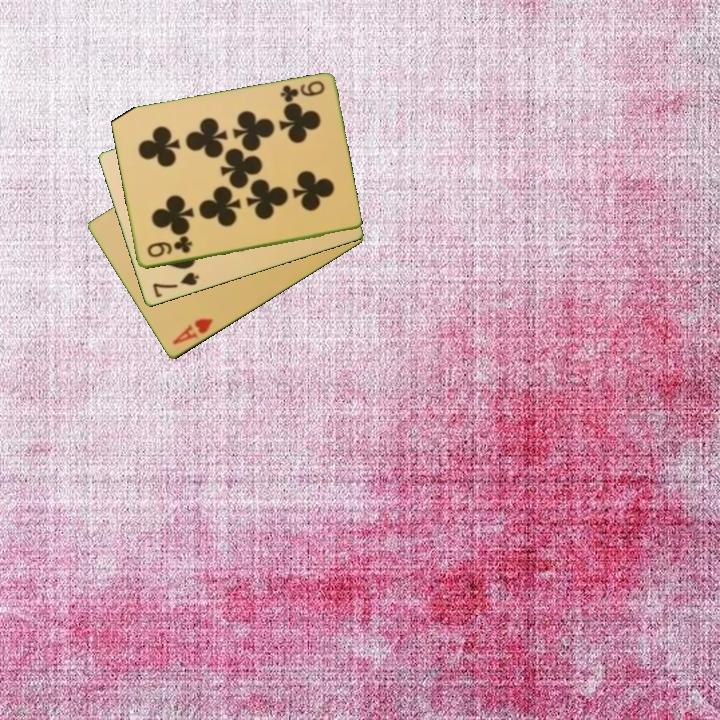7s: (149, 269, 202, 301)
9c: (276, 77, 327, 106), (143, 235, 195, 261)
Ah: (169, 315, 216, 348)
